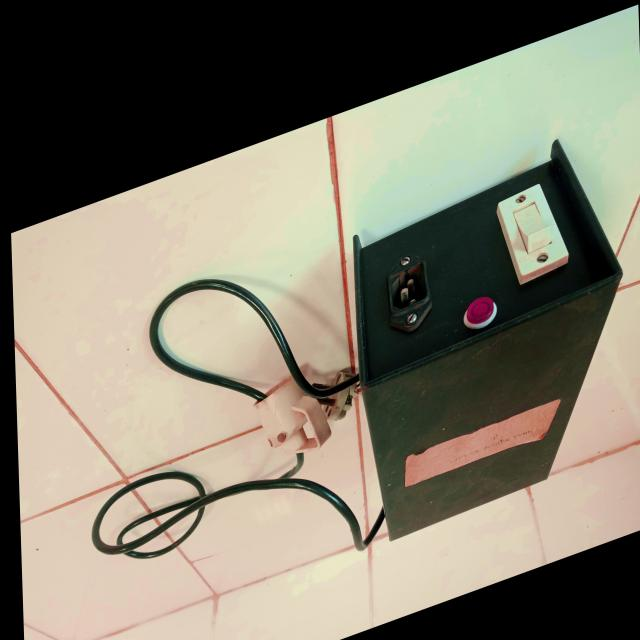Sodium Lamp Power Supply: (354, 116, 637, 569)
